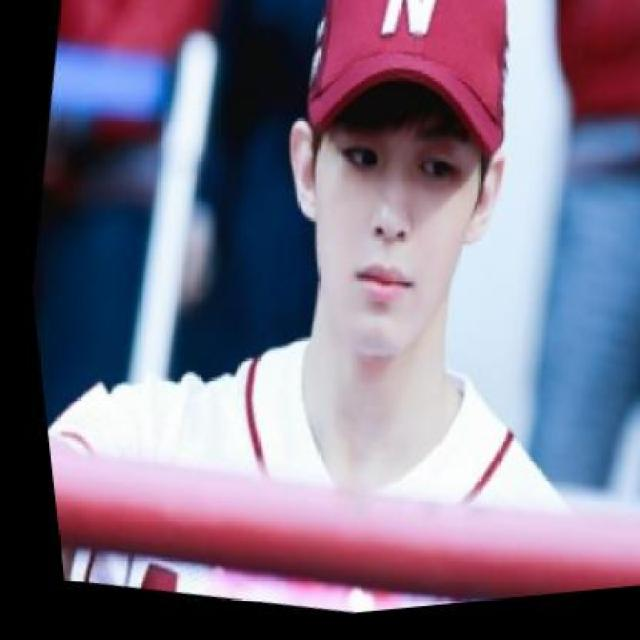hat: (281, 0, 533, 178)
